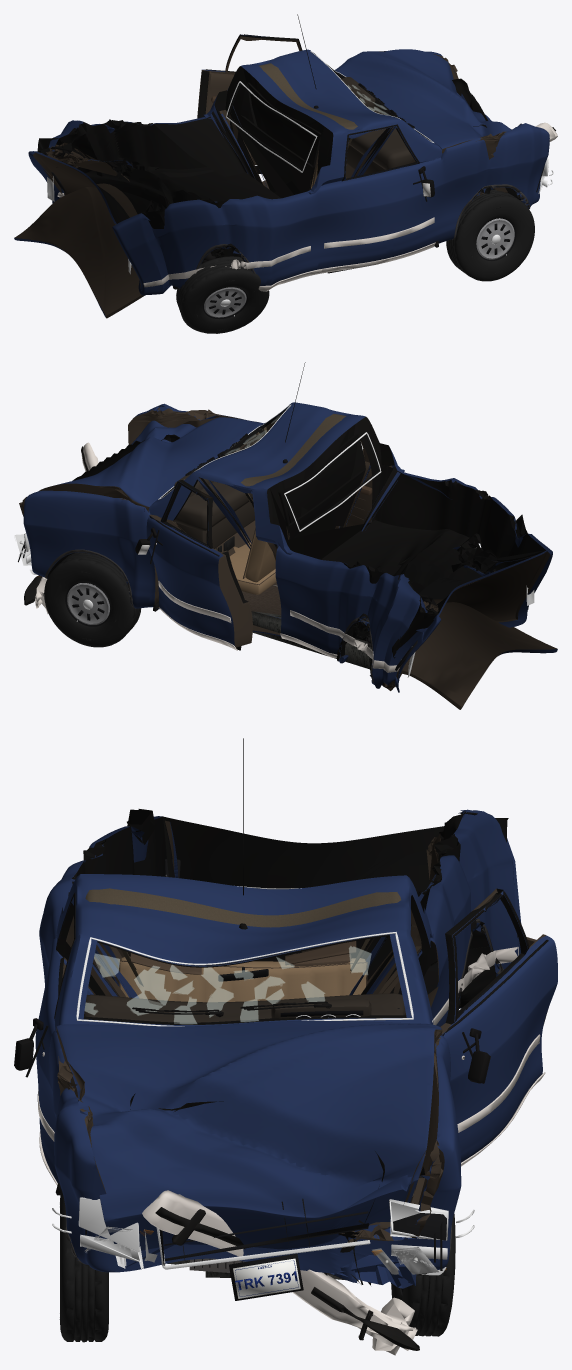
Rendered from pickup87_rear_d3_lod1.glb.
The picture shows the model from 3 angles, top to bottom: view 1: azimuth 30°, elevation 25°; view 2: azimuth 150°, elevation 25°; view 3: azimuth 270°, elevation 25°; orthographic projection. The views are drawn at different scales.
Visible parts, largest first — view 1: Body, Hood, Tailgate, Wheel_FR_mesh, Wheel_RR_mesh, Door_FR, Interior, Trim, Trim_FR, Door_FL, Glass, Ends; view 2: Body, Door_FL, Hood, Tailgate, Wheel_FL_mesh, Interior, Trim, Trim_FL, Glass, Underbody, Bumper_F, Ends (+1 smaller); view 3: Body, Hood, Interior, Door_FL, Ends, Bumper_F, Glass, Wheel_FR_mesh, Trim_FL, Wheel_FL_mesh, Trim, Door_FR (+1 smaller).
Part boxes in pixels (left/top/right/bottom): Body: left=28, top=49, right=549, bottom=295; Hood: left=335, top=49, right=511, bottom=192; Tailgate: left=14, top=183, right=144, bottom=318; Wheel_FR_mesh: left=446, top=189, right=534, bottom=281; Wheel_RR_mesh: left=176, top=256, right=269, bottom=333; Door_FR: left=320, top=126, right=438, bottom=268; Interior: left=311, top=77, right=413, bottom=188; Trim: left=57, top=14, right=530, bottom=291; Trim_FR: left=320, top=124, right=435, bottom=273; Door_FL: left=197, top=34, right=301, bottom=164; Glass: left=226, top=51, right=433, bottom=172; Ends: left=47, top=158, right=553, bottom=274; Body: left=19, top=402, right=552, bottom=692; Door_FL: left=146, top=480, right=252, bottom=647; Hood: left=38, top=417, right=262, bottom=512; Tailgate: left=401, top=599, right=557, bottom=709; Wheel_FL_mesh: left=44, top=552, right=141, bottom=647; Interior: left=171, top=433, right=276, bottom=594; Trim: left=45, top=362, right=528, bottom=682; Trim_FL: left=135, top=481, right=241, bottom=650; Glass: left=158, top=404, right=381, bottom=531; Underbody: left=251, top=585, right=371, bottom=669; Bumper_F: left=24, top=442, right=98, bottom=613; Ends: left=15, top=533, right=534, bottom=677; Body: left=35, top=809, right=521, bottom=1288; Hood: left=56, top=1020, right=442, bottom=1252; Interior: left=84, top=941, right=405, bottom=1022; Door_FL: left=440, top=888, right=557, bottom=1162; Ends: left=52, top=859, right=517, bottom=1300; Bumper_F: left=142, top=1190, right=419, bottom=1355; Glass: left=76, top=886, right=413, bottom=1026; Wheel_FR_mesh: left=59, top=1189, right=108, bottom=1342; Trim_FL: left=432, top=891, right=548, bottom=1166; Wheel_FL_mesh: left=391, top=1175, right=455, bottom=1336; Trim: left=55, top=738, right=518, bottom=1275; Door_FR: left=35, top=903, right=75, bottom=1183.
Size of the model in its own units: 4.38 by 2.48 by 2.6.
33 materials, 5 textured.
